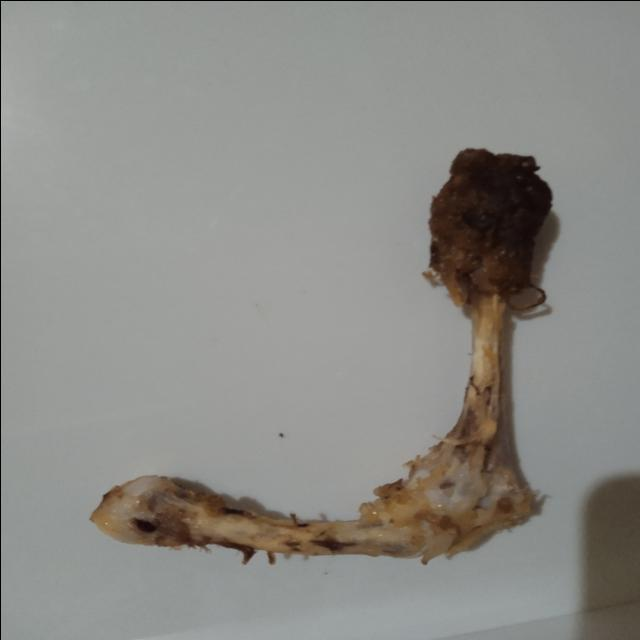bone: (75, 140, 565, 564)
